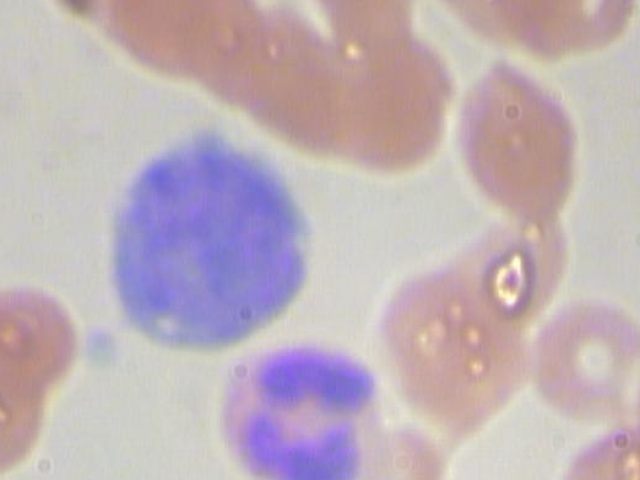Platelets: (77, 321, 126, 378)
RBC: (448, 60, 612, 241), (374, 256, 514, 409), (515, 275, 640, 427), (223, 1, 329, 145), (0, 255, 88, 399), (160, 0, 267, 107), (0, 344, 68, 480), (108, 0, 214, 81), (70, 0, 175, 59), (489, 0, 593, 57), (310, 0, 427, 50), (553, 415, 640, 480), (551, 0, 640, 59), (28, 0, 133, 21), (635, 324, 640, 475)
WBC: (100, 125, 339, 355), (204, 343, 388, 480)
